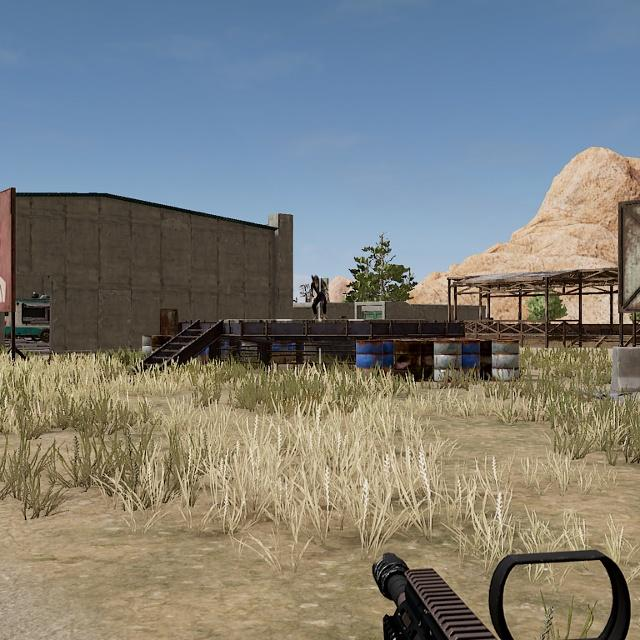head: (311, 272, 322, 285)
people: (307, 271, 333, 322)
